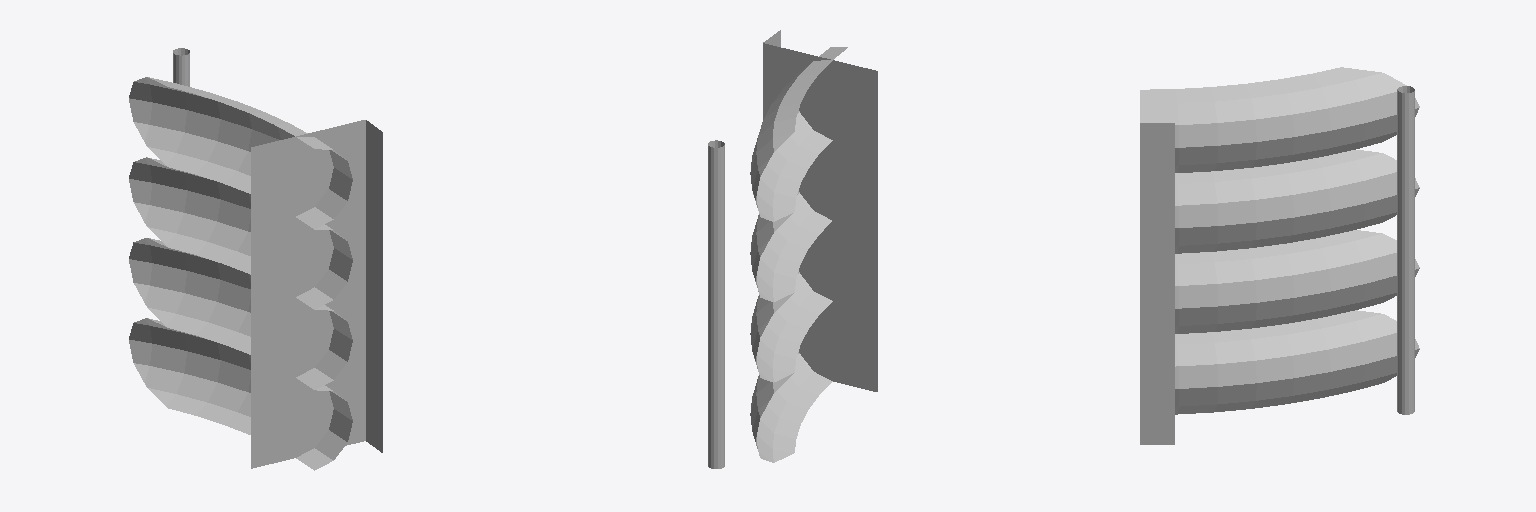
File: tng_core2_a.obj
The picture shows the model from 3 angles: view 1: azimuth 30°, elevation 25°; view 2: azimuth 150°, elevation 25°; view 3: azimuth 270°, elevation 25°; orthographic projection.
Visible parts, largest first — view 1: WarpGroupA_meshA; view 2: WarpGroupA_meshA; view 3: WarpGroupA_meshA.
Part boxes in pixels (x1,y1,x2,y2): WarpGroupA_meshA: (129, 48, 382, 470); WarpGroupA_meshA: (708, 30, 877, 468); WarpGroupA_meshA: (1140, 67, 1419, 444).
Size of the model in its own units: 0.374 by 1 by 0.7892.